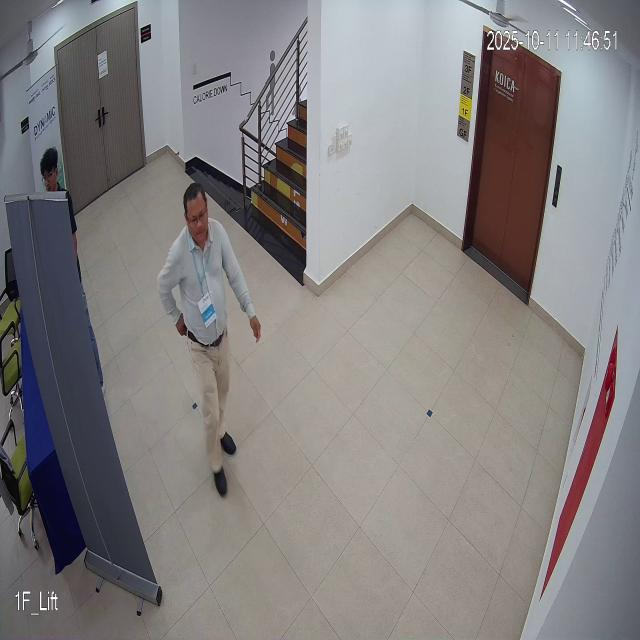face: (180, 173, 213, 248)
